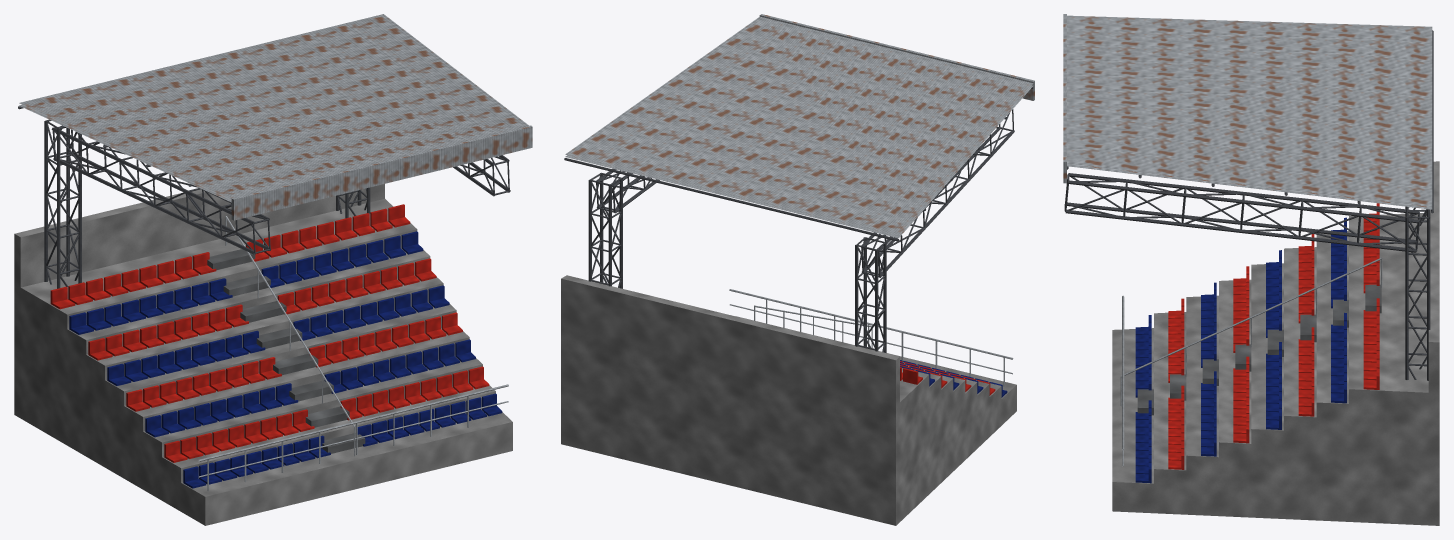
File: bay_10m_curve12_roof.glb
3 views of the same model, side by side, from view 1: azimuth 30°, elevation 25°; view 2: azimuth 150°, elevation 25°; view 3: azimuth 270°, elevation 25° (orthographic). The views are drawn at different scales.
Parts seen in each view (by area): view 1: bay_10m_curve12_roof; view 2: bay_10m_curve12_roof; view 3: bay_10m_curve12_roof.
Part boxes in pixels (bbox=[...]): bay_10m_curve12_roof: bbox=[14, 14, 532, 525]; bay_10m_curve12_roof: bbox=[561, 14, 1034, 525]; bay_10m_curve12_roof: bbox=[1063, 14, 1439, 525].
Size of the model in its own units: 11.85 by 10.62 by 10.4.
7 materials, 7 textured.
